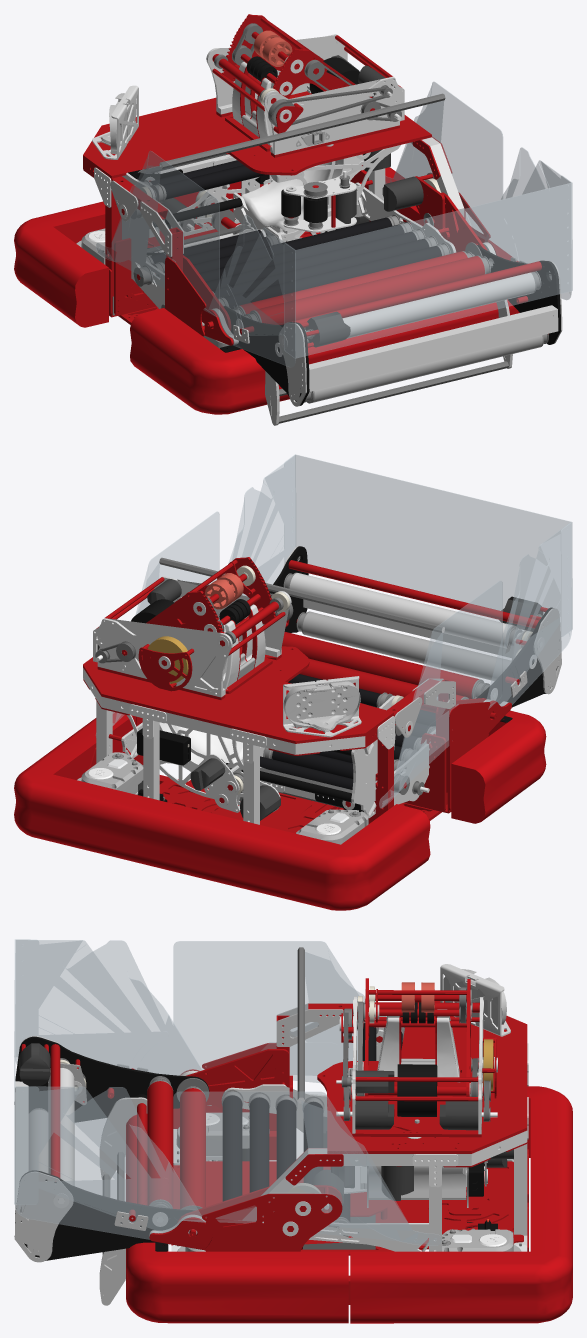
The model's file is 2026.2 Robot Design - simplified.fbx.
The picture shows the model from 3 angles, top to bottom: view 1: azimuth 30°, elevation 25°; view 2: azimuth 150°, elevation 25°; view 3: azimuth 270°, elevation 25°; orthographic projection. The views are drawn at different scales.
Parts seen in each view (by area): view 1: Part 16, Part 8.005, DT-39, DT-23, Part 8.002, Part 15.001, DT-39.001, Part 15, Part 3, IN-42 Big Tube, SH-01 Left Shooter Plate, Part 6 (+50 smaller); view 2: Part 8.002, Part 16, DT-39, DT-23, Part 15.001, Part 8.005, Part 15, Part 5, SH-02 Right Shooter Plate, Part 6, IN-42 Big Tube, DT-39.001 (+45 smaller); view 3: DT-39.001, Part 8.002, Part 15, DT-39, Part 8.005, Part 15.001, DT-23, Bellypan, IN-04 Side Plate, Part 4.001, Part 4, Part 16 (+51 smaller).
Boxes of the visible parts, x1,y1,x2,y2 form: Part 16: (284,176,572,358); Part 8.005: (130,226,519,414); DT-39: (96,151,219,316); DT-23: (83,97,431,178); Part 8.002: (14,154,424,327); Part 15.001: (209,215,295,367); DT-39.001: (385,82,502,239); Part 15: (485,147,571,299); Part 3: (309,305,558,391); IN-42 Big Tube: (255,256,484,324); SH-01 Left Shooter Plate: (263,76,404,154); Part 6: (342,272,535,338); Part 8.002: (14,712,430,910); Part 16: (284,454,572,636); DT-39: (379,581,502,808); DT-23: (83,646,393,743); Part 15.001: (486,522,571,706); Part 8.005: (136,710,546,823); Part 15: (228,455,295,596); Part 5: (302,612,511,680); SH-02 Right Shooter Plate: (93,618,232,697); Part 6: (289,573,512,648); IN-42 Big Tube: (282,632,478,699); DT-39.001: (112,511,219,725); DT-39.001: (173,1092,441,1245); Part 8.002: (350,1086,572,1323); Part 15: (15,1086,202,1239); DT-39: (173,941,364,1082); Part 8.005: (126,1105,348,1323); Part 15.001: (15,940,201,1075); DT-23: (317,1001,527,1153); Bellypan: (175,1161,523,1249); IN-04 Side Plate: (202,1193,342,1251); Part 4.001: (14,1170,194,1260); Part 4: (14,1036,209,1122); Part 16: (14,939,38,1204).
Size of the model in its own units: 0.8674 by 0.6084 by 1.08.
